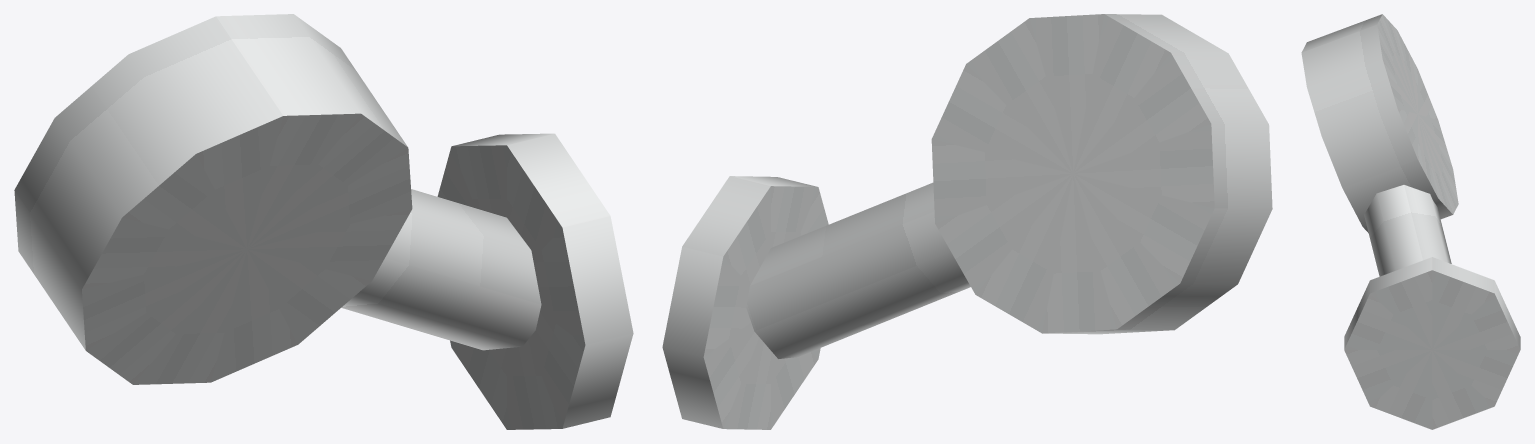
The model's file is nycsignalarm_stub_37.obj.
3 renders of one model, left to right at view 1: azimuth 30°, elevation 25°; view 2: azimuth 150°, elevation 25°; view 3: azimuth 270°, elevation 25°, orthographic. The views are drawn at different scales.
Visible parts, largest first — view 1: nycsignalarm_stub_37; view 2: nycsignalarm_stub_37; view 3: nycsignalarm_stub_37.
Part boxes in pixels (bbox=[...]): nycsignalarm_stub_37: bbox=[14, 14, 633, 429]; nycsignalarm_stub_37: bbox=[662, 14, 1272, 429]; nycsignalarm_stub_37: bbox=[1301, 14, 1520, 429].
Bounding box in the file's own units: 0.712 × 0.6548 × 0.4348.
